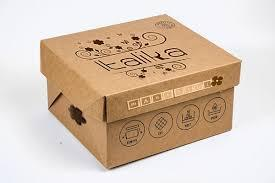box: (40, 14, 242, 171)
